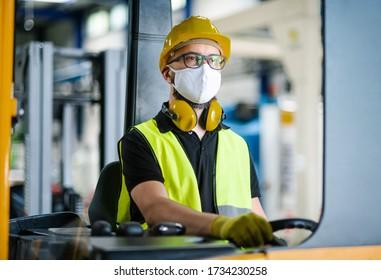gloves: (210, 212, 274, 249)
